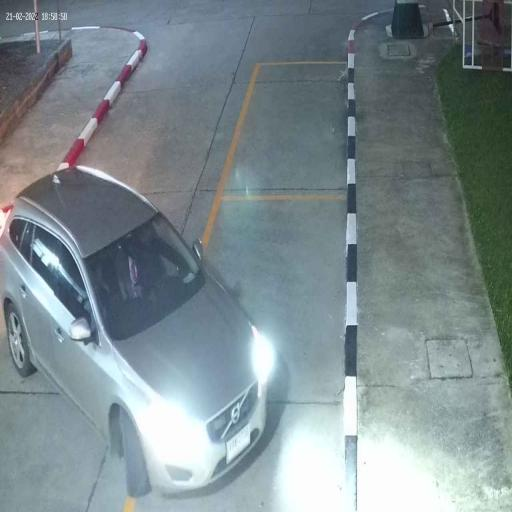car: (0, 165, 271, 500)
